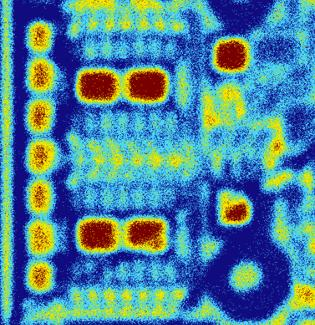Pad 1: (77, 69, 120, 103), (77, 218, 120, 252), (125, 69, 168, 102), (125, 219, 168, 251), (214, 40, 248, 72), (218, 192, 251, 224)
Pad 2: (28, 220, 54, 255), (28, 141, 55, 174), (28, 180, 53, 214), (29, 60, 54, 92), (28, 100, 52, 133), (28, 261, 52, 292), (28, 23, 52, 52)
